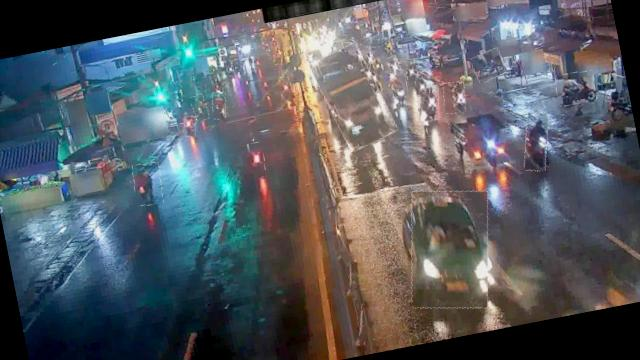Bike: (517, 110, 556, 172), (553, 68, 597, 107), (130, 161, 165, 207), (470, 47, 508, 82), (416, 82, 444, 122), (441, 80, 468, 114), (386, 74, 409, 105), (247, 141, 266, 172), (190, 93, 210, 122), (210, 90, 228, 120), (414, 70, 432, 95), (182, 114, 199, 138), (404, 59, 419, 80), (278, 76, 292, 98), (388, 54, 402, 75)
Car: (396, 180, 503, 316)
Truck: (313, 41, 395, 153)
